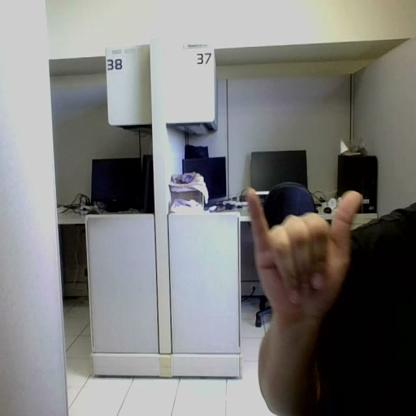Y: (247, 190, 362, 309)
